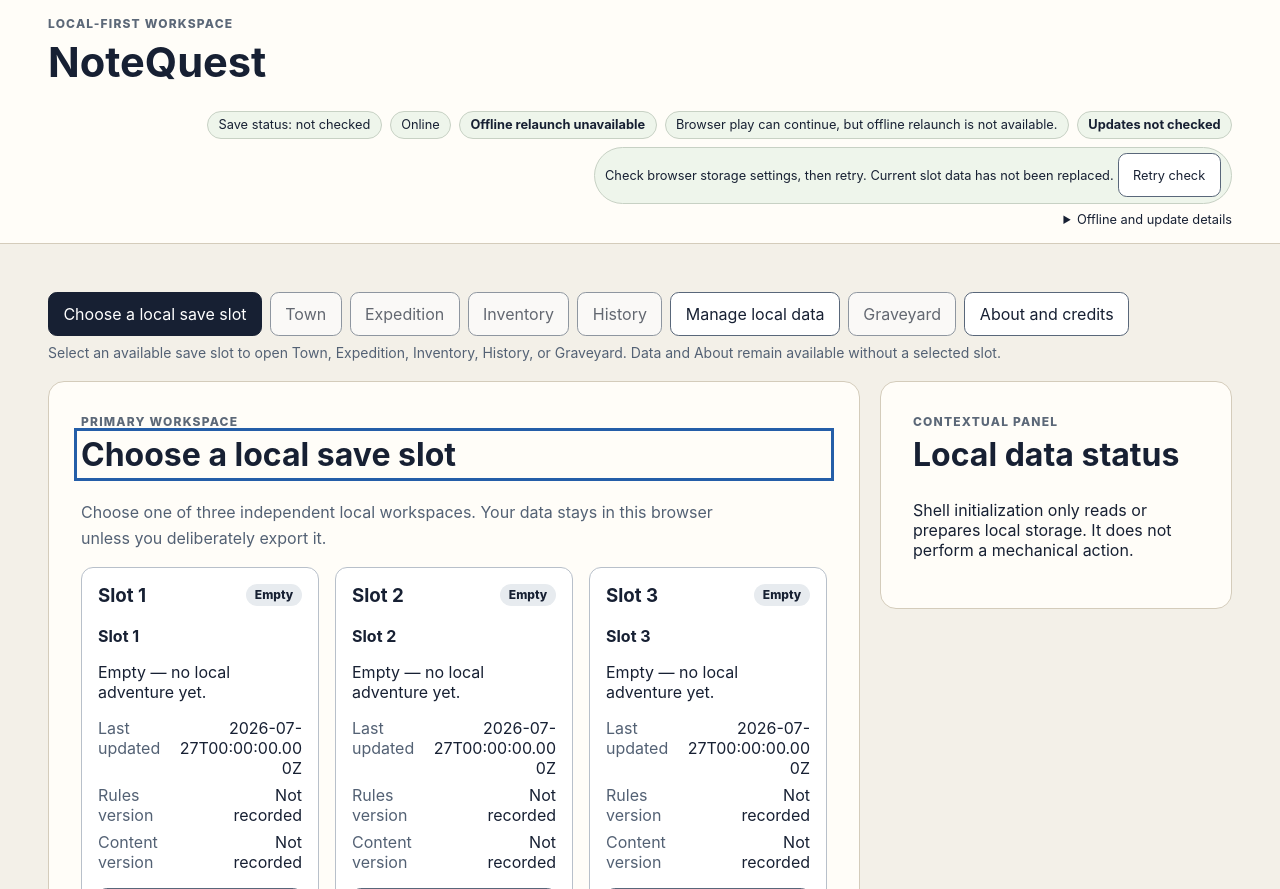
Test case: App shell › clears a storage failure after a verified write when optional estimate evidence rejects
The width and height of the screenshot is (1280, 889).
Step 1. Click the button "Retry check" → [1169, 175], box left=1118, top=153, right=1221, bottom=197
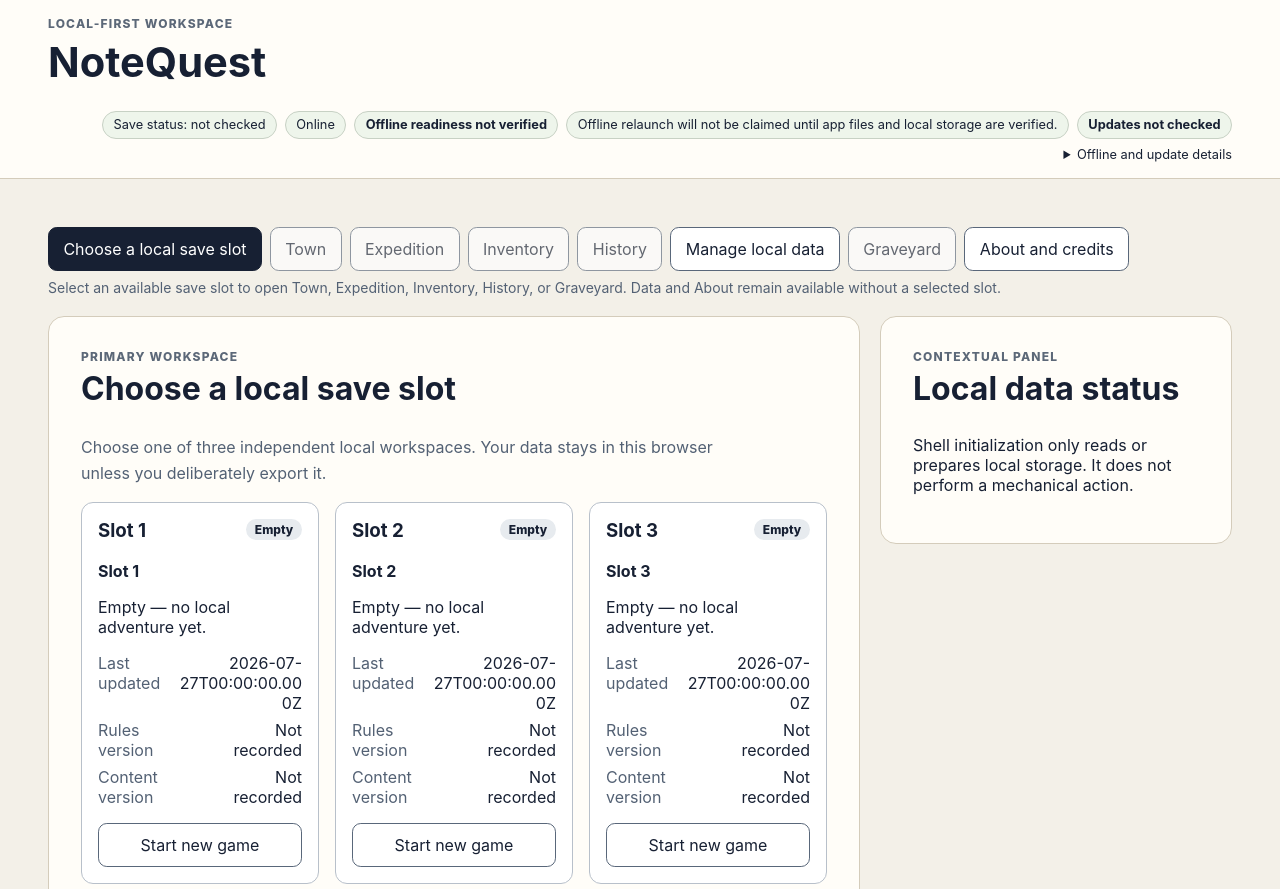
Now the text "Check browser storage settings" is gone
